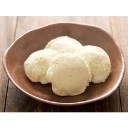idly: (47, 55, 89, 94), (75, 45, 110, 82), (25, 48, 61, 83), (47, 35, 81, 54)
